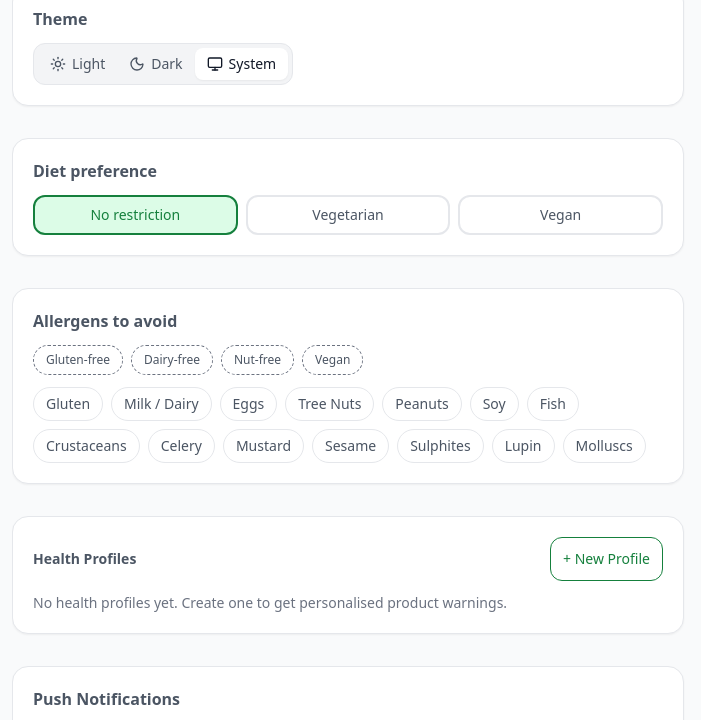
Test: SettingsPage › clicking Gluten-free preset selects the gluten allergen
(page scrolled)
Step 1. Click the button "Gluten-free" → (78, 360), box [33,345,123,375]
(page scrolled)
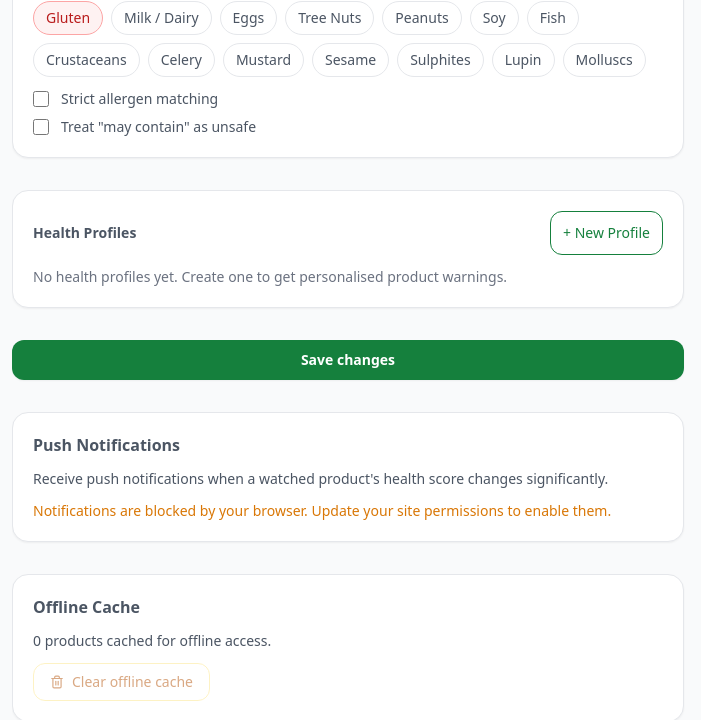
Check: the button "Save changes" is shown, box [12,340,684,380]
